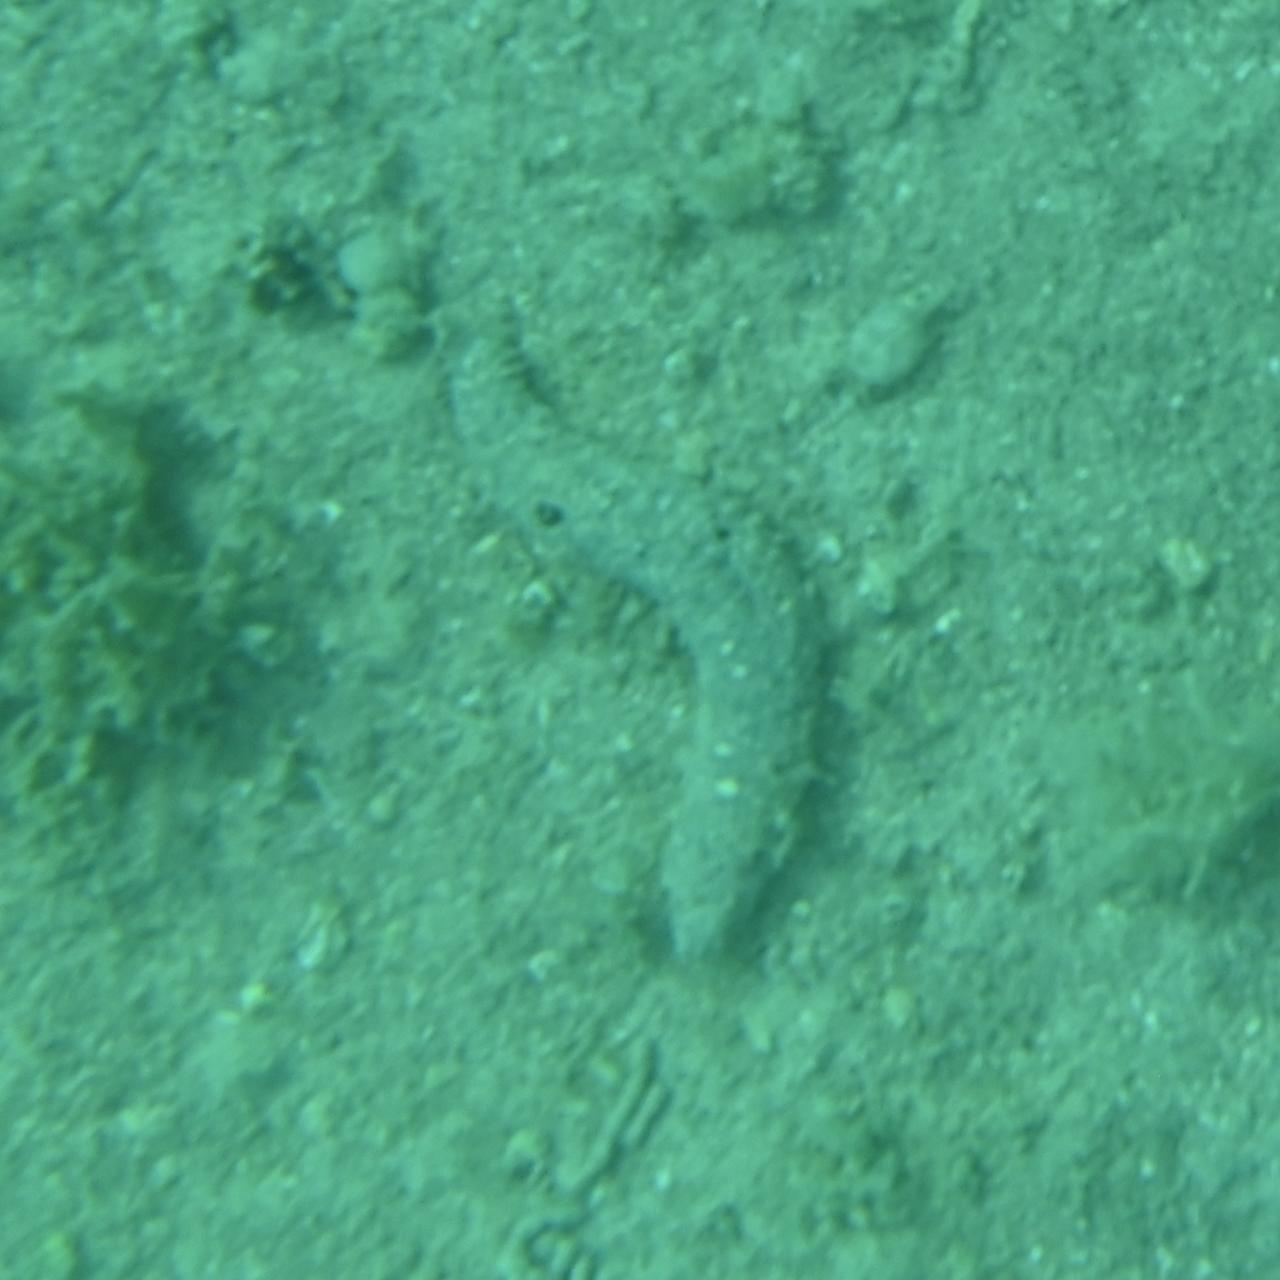Holothuria tubulosa: (442, 316, 838, 964)
